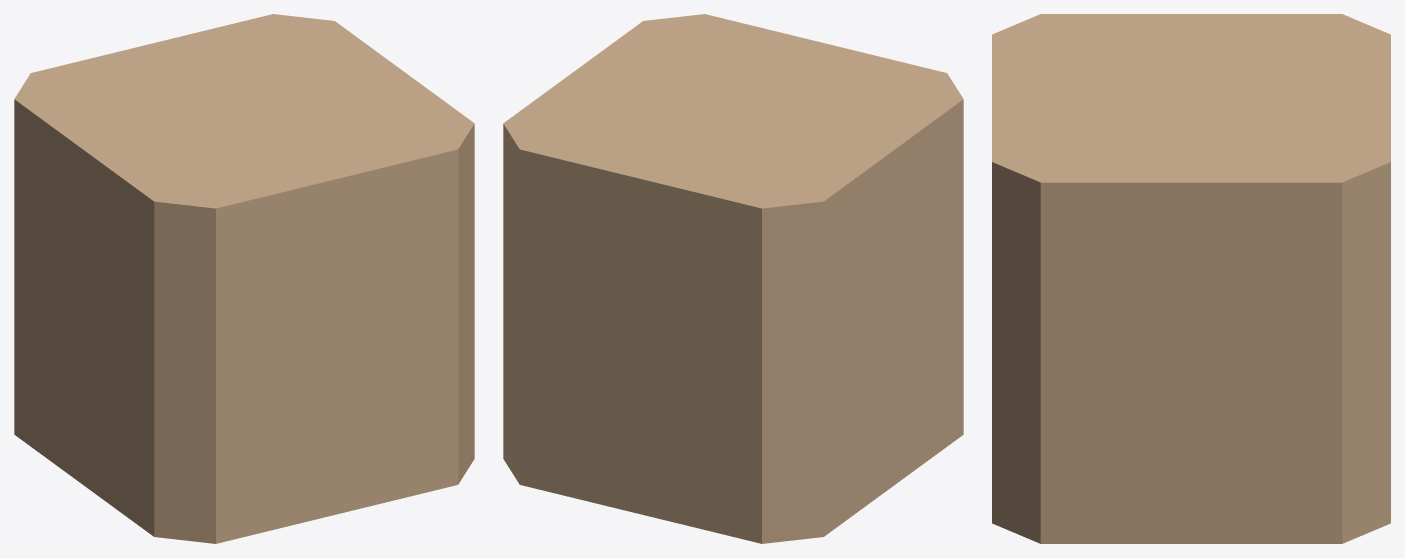
File: jiagu1.fbx
The picture shows the model from 3 angles, left to right: view 1: azimuth 30°, elevation 25°; view 2: azimuth 150°, elevation 25°; view 3: azimuth 270°, elevation 25°; orthographic projection. The views are drawn at different scales.
Parts seen in each view (by area): view 1: 立方体.032; view 2: 立方体.032; view 3: 立方体.032.
Part boxes in pixels (box(x1,y1,x2,y2)): 立方体.032: box(14, 14, 474, 543); 立方体.032: box(503, 14, 963, 543); 立方体.032: box(992, 14, 1390, 543).
Bounding box in the file's own units: 78.74 × 78.74 × 78.74.
